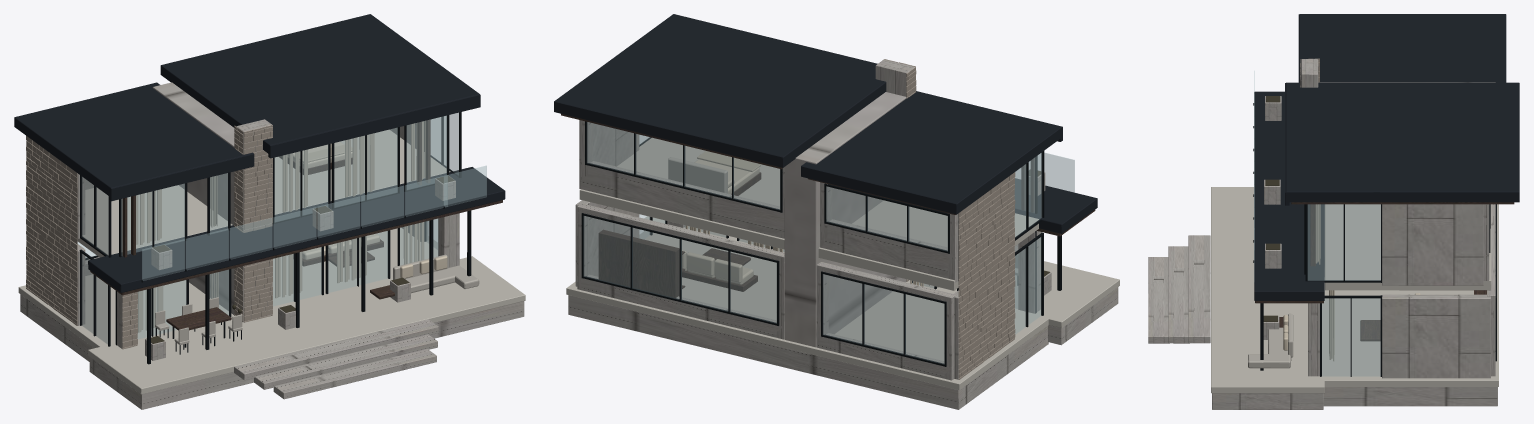
File: atria-house.glb
The picture shows the model from 3 angles, left to right: view 1: azimuth 30°, elevation 25°; view 2: azimuth 150°, elevation 25°; view 3: azimuth 270°, elevation 25°; orthographic projection. The views are drawn at different scales.
Visible parts, largest first — view 1: left graphite roof.001, concept rear left window glass.001, terrace floor.001, reference entry step 0.001, concept rear left window side.002, ground linen.045, detail / left side masonry.001, left warm soffit.001, detail / central shaft.001, terrace chair.006, detail / living sofa cushion.003, detail / shaft left return.001 (+2 smaller); view 2: reference entry step 0.001, left graphite roof.001, concept rear left window glass.001, terrace floor.001, detail / left side masonry.001, concept rear left window side.002, left warm soffit.001, detail / living sofa cushion.003, terrace chair.006, ground linen.045; view 3: left graphite roof.001, reference entry step 0.001, terrace floor.001, concept rear left window glass.001, concept rear left window side.002, left warm soffit.001, terrace chair.006, ground linen.045, detail / soil inset.006.
Part boxes in pixels (<box>): left graphite roof.001: <box>14,14,505,292</box>; concept rear left window glass.001: <box>78,113,486,344</box>; terrace floor.001: <box>18,129,525,394</box>; reference entry step 0.001: <box>20,82,524,409</box>; concept rear left window side.002: <box>79,112,471,364</box>; ground linen.045: <box>136,121,425,332</box>; detail / left side masonry.001: <box>26,136,77,325</box>; left warm soffit.001: <box>90,119,502,330</box>; detail / central shaft.001: <box>244,125,272,322</box>; terrace chair.006: <box>155,254,479,345</box>; detail / living sofa cushion.003: <box>287,141,447,278</box>; detail / shaft left return.001: <box>234,125,243,321</box>; reference entry step 0.001: <box>568,59,1118,409</box>; left graphite roof.001: <box>554,14,1097,233</box>; concept rear left window glass.001: <box>583,122,1074,364</box>; terrace floor.001: <box>566,138,1119,390</box>; detail / left side masonry.001: <box>958,172,1015,379</box>; concept rear left window side.002: <box>581,121,1061,366</box>; left warm soffit.001: <box>561,114,1095,297</box>; detail / living sofa cushion.003: <box>682,159,759,284</box>; terrace chair.006: <box>668,157,1017,275</box>; ground linen.045: <box>685,151,923,286</box>; left graphite roof.001: <box>1254,14,1519,300</box>; reference entry step 0.001: <box>1148,59,1497,409</box>; terrace floor.001: <box>1211,187,1498,393</box>; concept rear left window glass.001: <box>1254,71,1380,376</box>; concept rear left window side.002: <box>1253,103,1496,376</box>; left warm soffit.001: <box>1255,202,1514,341</box>; terrace chair.006: <box>1248,313,1293,368</box>; ground linen.045: <box>1315,204,1334,361</box>; detail / soil inset.006: <box>1263,96,1280,321</box>.
Size of the model in its own units: 15.8 by 8.45 by 12.39.
Materials: 15 (2 with a texture image).
